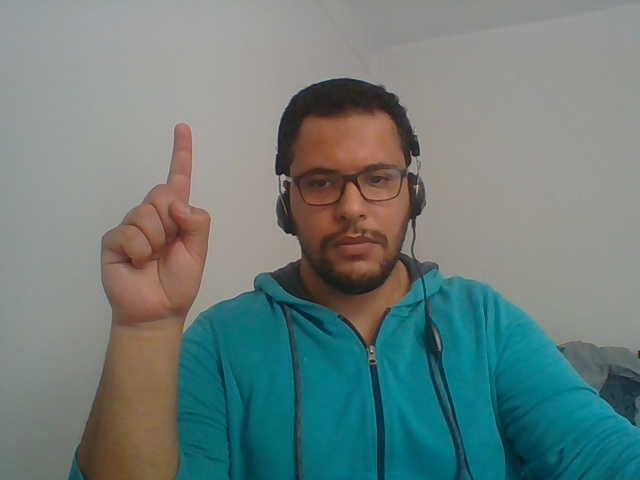handup: (66, 104, 232, 455)
